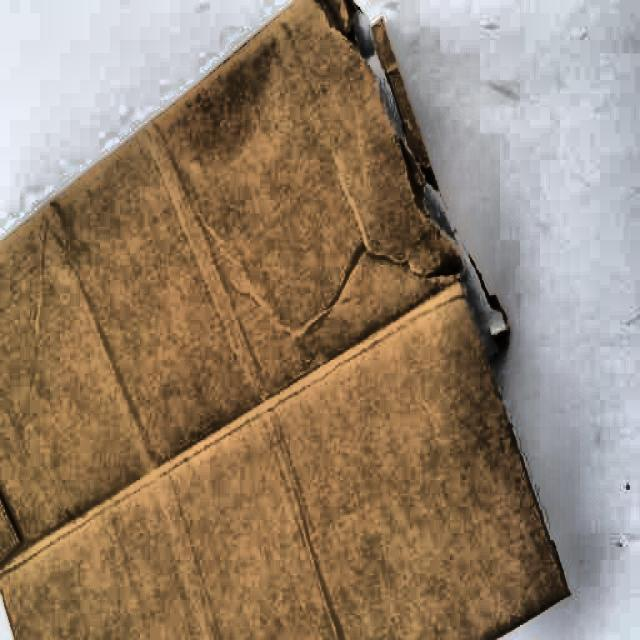cardboard: (1, 1, 575, 640)
